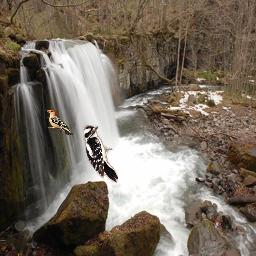Woodpecker: (84, 125, 119, 183), (44, 109, 74, 135)
